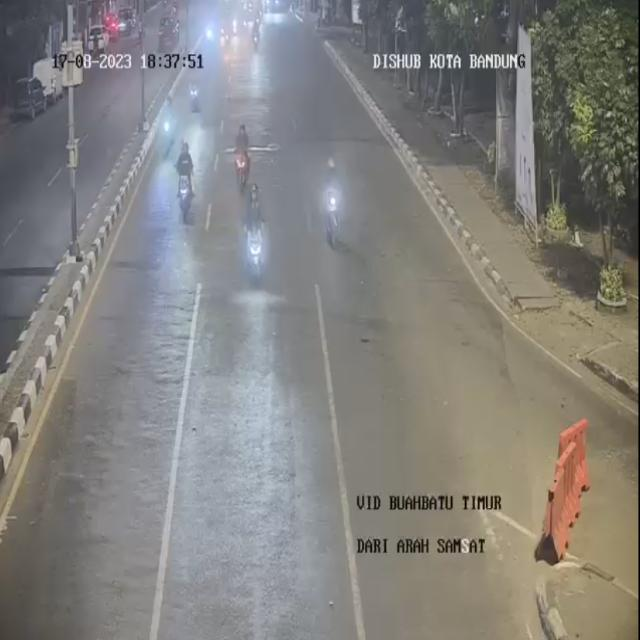motorcycle: (240, 180, 275, 294), (319, 154, 352, 256), (175, 138, 197, 223), (235, 118, 255, 192), (161, 100, 177, 139), (189, 81, 203, 118)
